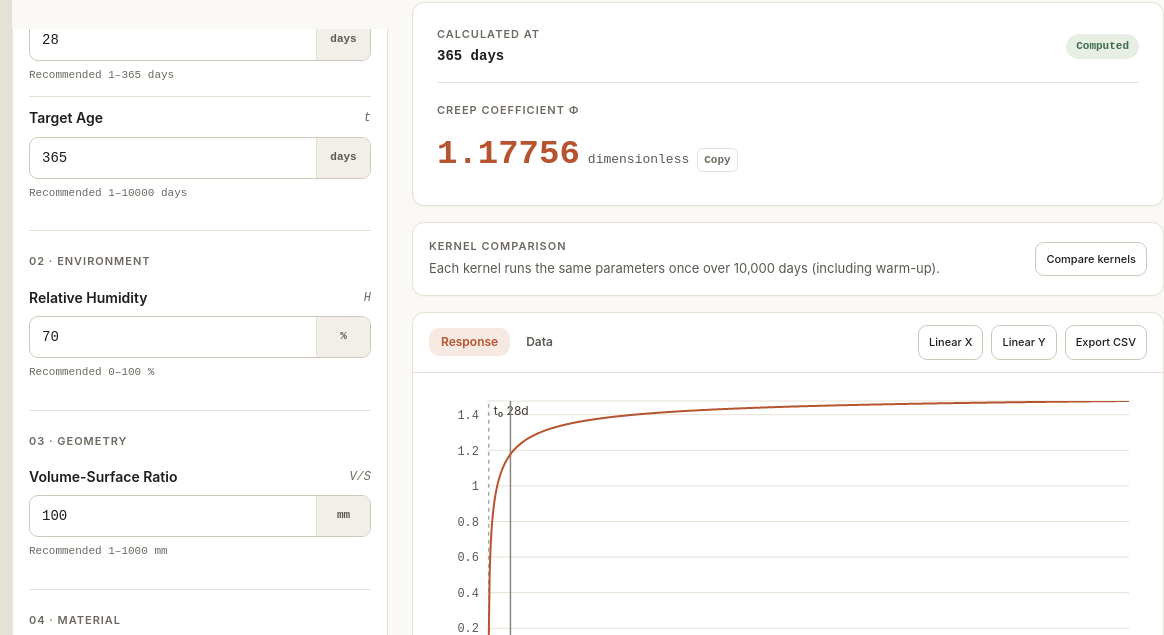
it: ModelCalculator workspace state › changing a real input does mark results stale until recalculated
The image size is (1164, 635).
(page scrolled)
Expected: the text "Computed" is shown, [1066, 34, 1139, 59]
Replace the text in the number field labelled "Relative Humidity" with "40" at [173, 337], box [30, 317, 316, 357]
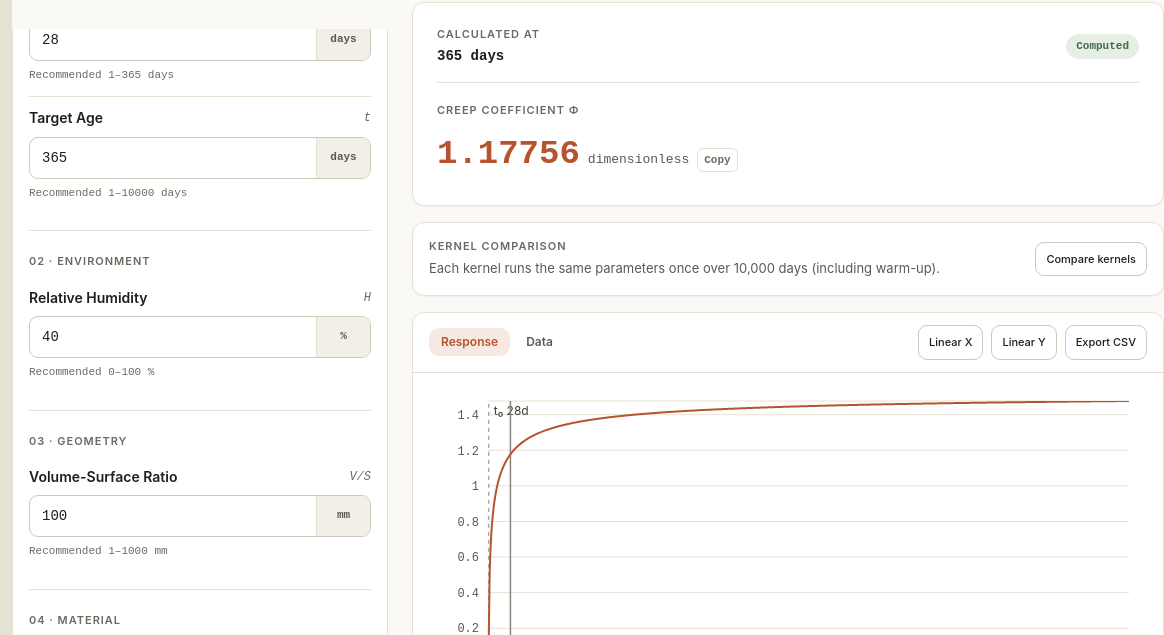
Leave the number field labelled "Relative Humidity", box [30, 317, 316, 357]
(page scrolled)
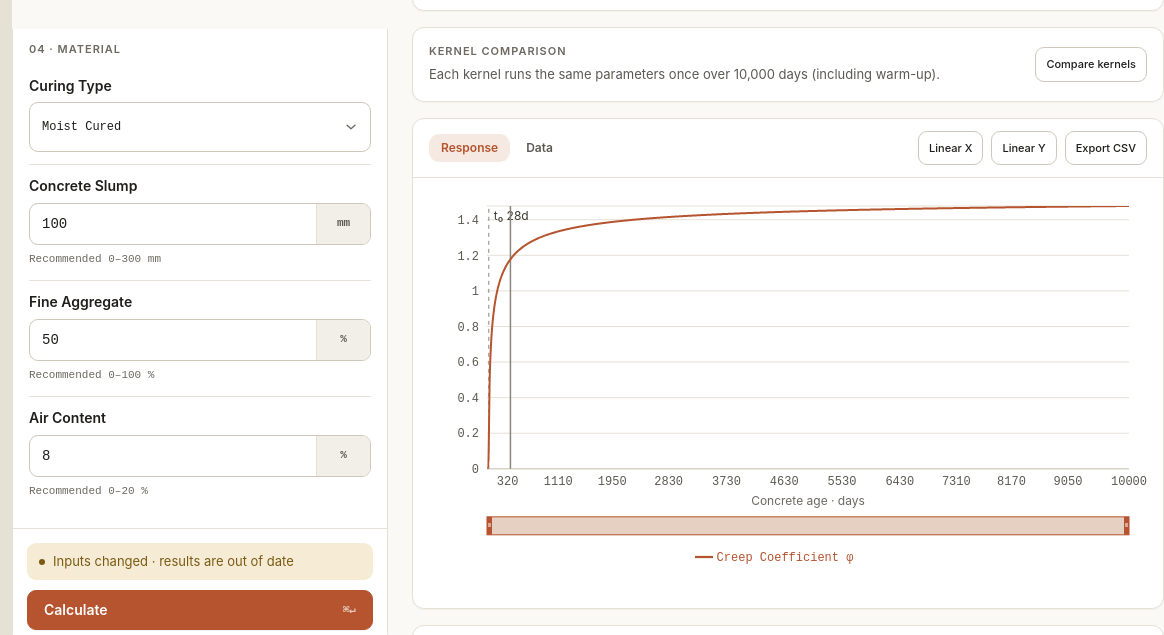
Click the button "Calculate ⌘↵" at [76, 610], box [27, 590, 373, 630]
(page scrolled)
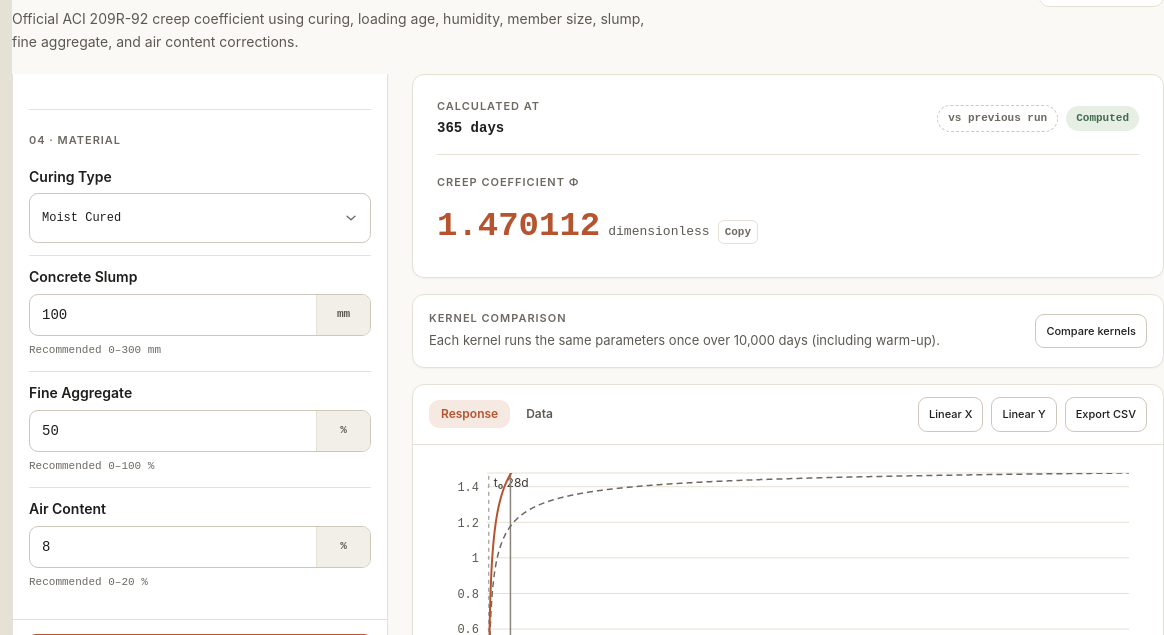
Now the text "Computed" is shown, box [1066, 106, 1139, 131]
